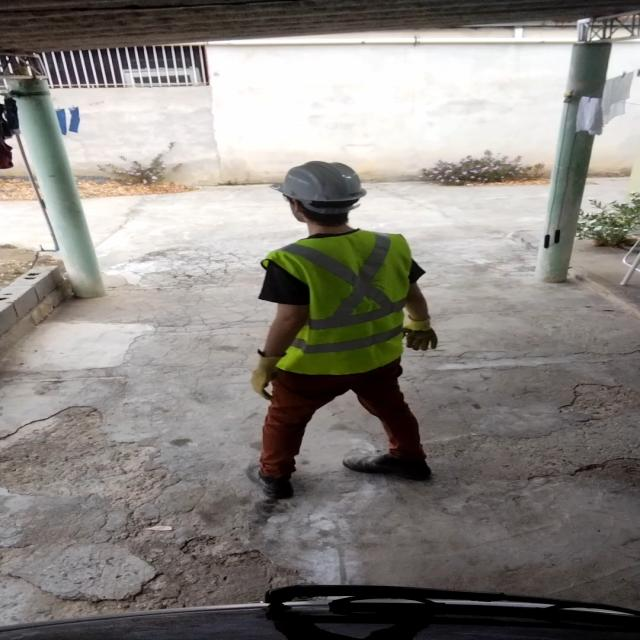glove: (242, 347, 296, 400), (398, 313, 448, 352)
helmet: (262, 158, 369, 214)
pants: (266, 370, 429, 472)
vest: (277, 228, 416, 372)
